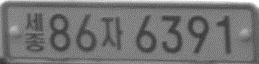1: (215, 15, 236, 54)
3: (160, 14, 183, 54)
6: (135, 14, 157, 54), (75, 13, 97, 51)
8: (48, 12, 71, 51)
9: (187, 15, 209, 53)
세종_V: (23, 11, 46, 52)
자: (100, 16, 124, 49)
